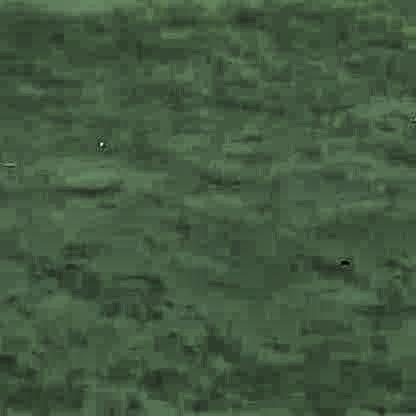golfball: (94, 140, 104, 147)
